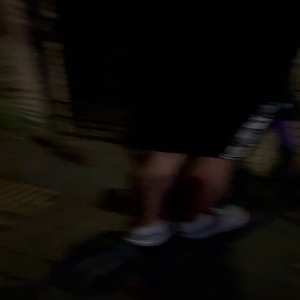human on a scooter: (45, 1, 300, 286)
